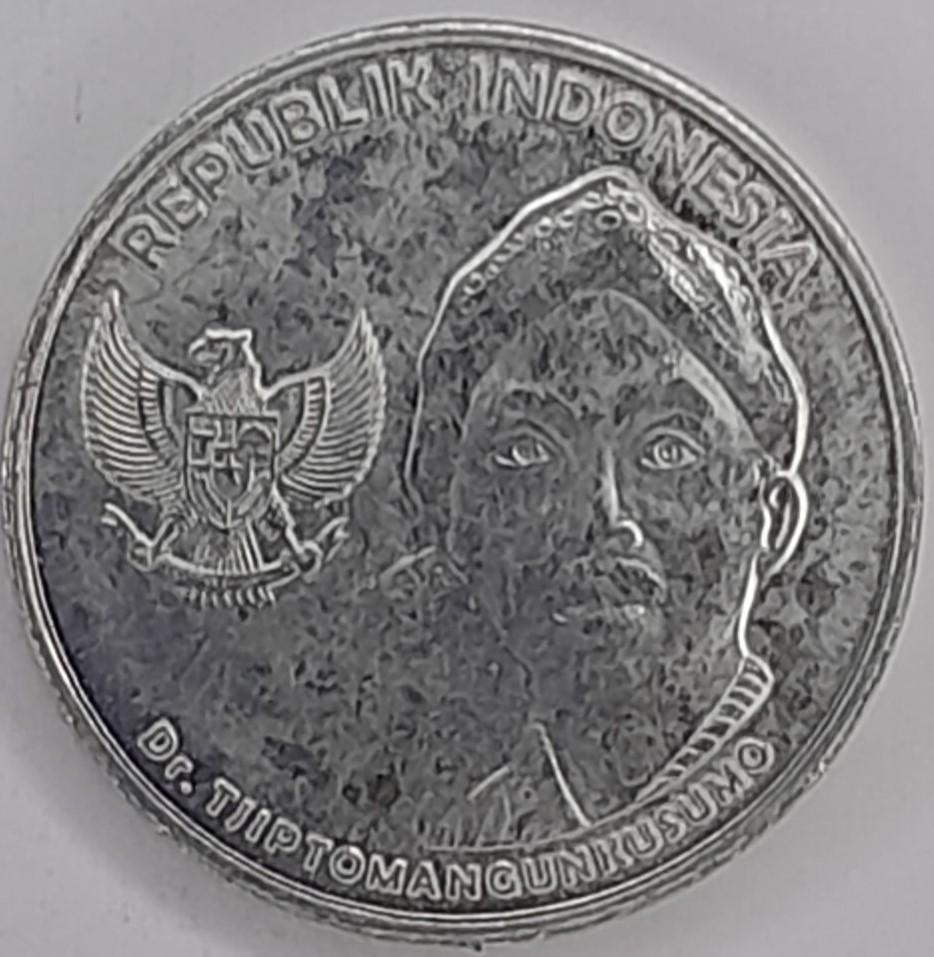coin_200_e2016: (0, 17, 934, 957)
